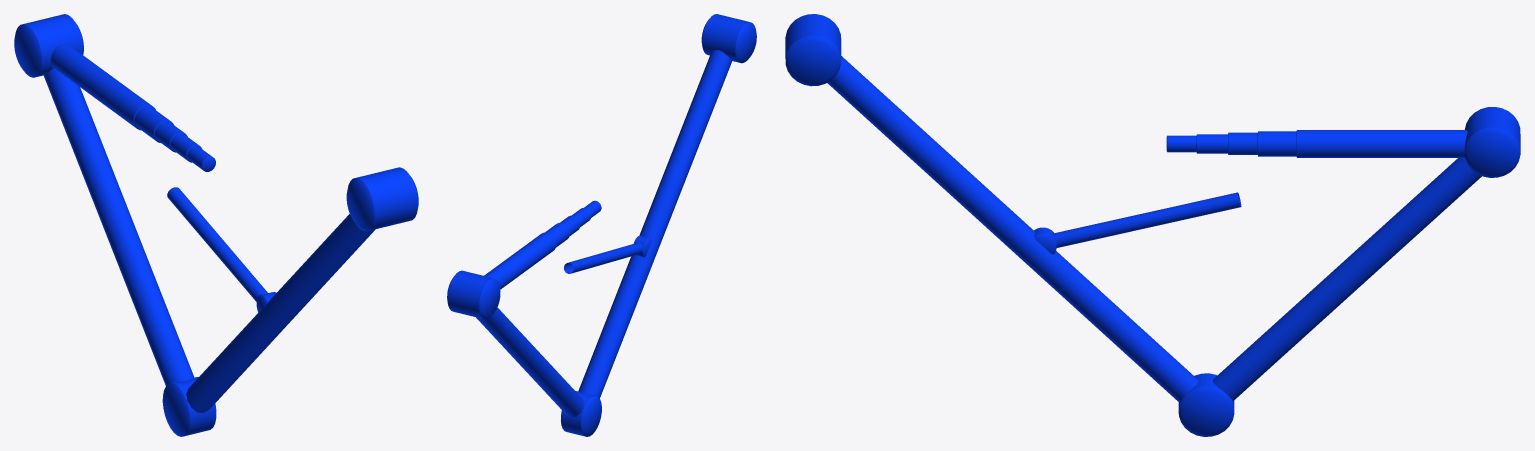
Rendered from Crane_v2.FBX.
The picture shows the model from 3 angles, left to right: view 1: azimuth 30°, elevation 25°; view 2: azimuth 150°, elevation 25°; view 3: azimuth 270°, elevation 25°; orthographic projection. The views are drawn at different scales.
Visible parts, largest first — view 1: clampArm1, clampArm2, clampPiston007, clampArmRoot, clampPiston002, clampPiston006, clampPiston003, clampPiston005, clampPiston004; view 2: clampArm2, clampArm1, clampArmRoot, clampPiston007, clampPiston002, clampPiston006; view 3: clampArm2, clampArm1, clampPiston007, clampArmRoot, clampPiston002, clampPiston006, clampPiston005.
Boxes of the visible parts, x1,y1,x2,y2 form: clampArm1: [43, 68, 216, 436]; clampArm2: [186, 167, 418, 412]; clampPiston007: [51, 43, 155, 130]; clampArmRoot: [14, 14, 83, 77]; clampPiston002: [167, 187, 276, 313]; clampPiston006: [134, 106, 173, 142]; clampPiston003: [187, 146, 215, 171]; clampPiston005: [155, 121, 187, 152]; clampPiston004: [170, 133, 201, 162]; clampArm2: [578, 14, 756, 398]; clampArm1: [476, 307, 601, 436]; clampArmRoot: [447, 270, 500, 319]; clampPiston007: [484, 232, 556, 289]; clampPiston002: [564, 235, 651, 273]; clampPiston006: [545, 223, 569, 247]; clampArm2: [785, 14, 1198, 402]; clampArm1: [1178, 158, 1481, 436]; clampPiston007: [1296, 130, 1467, 157]; clampArmRoot: [1464, 107, 1520, 177]; clampPiston002: [1034, 192, 1241, 254]; clampPiston006: [1257, 131, 1296, 156]; clampPiston005: [1228, 132, 1257, 154].
Bounding box in the file's own units: 99.79 × 764 × 1255.
